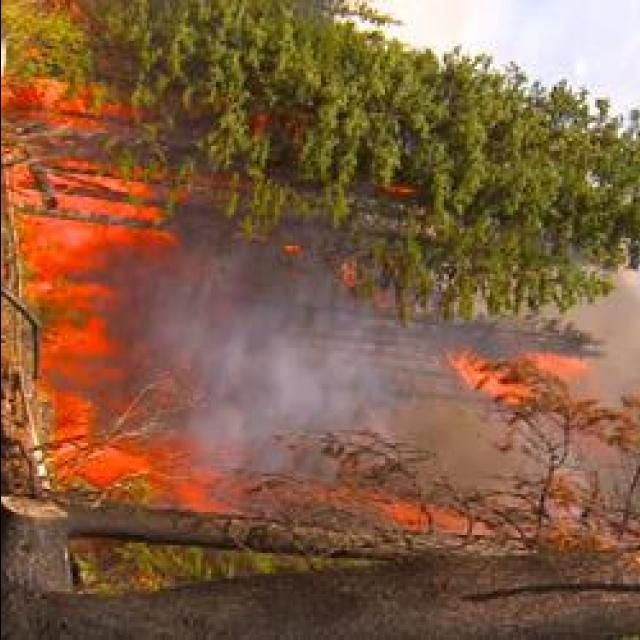fire: (28, 225, 116, 259), (48, 394, 96, 438), (85, 449, 133, 488), (44, 328, 106, 358), (95, 227, 175, 247), (40, 282, 98, 306), (56, 196, 122, 215), (0, 88, 46, 110)
smoke: (240, 320, 392, 420), (202, 252, 306, 388), (202, 373, 306, 459), (140, 277, 234, 363), (402, 396, 489, 478), (112, 270, 156, 336)
